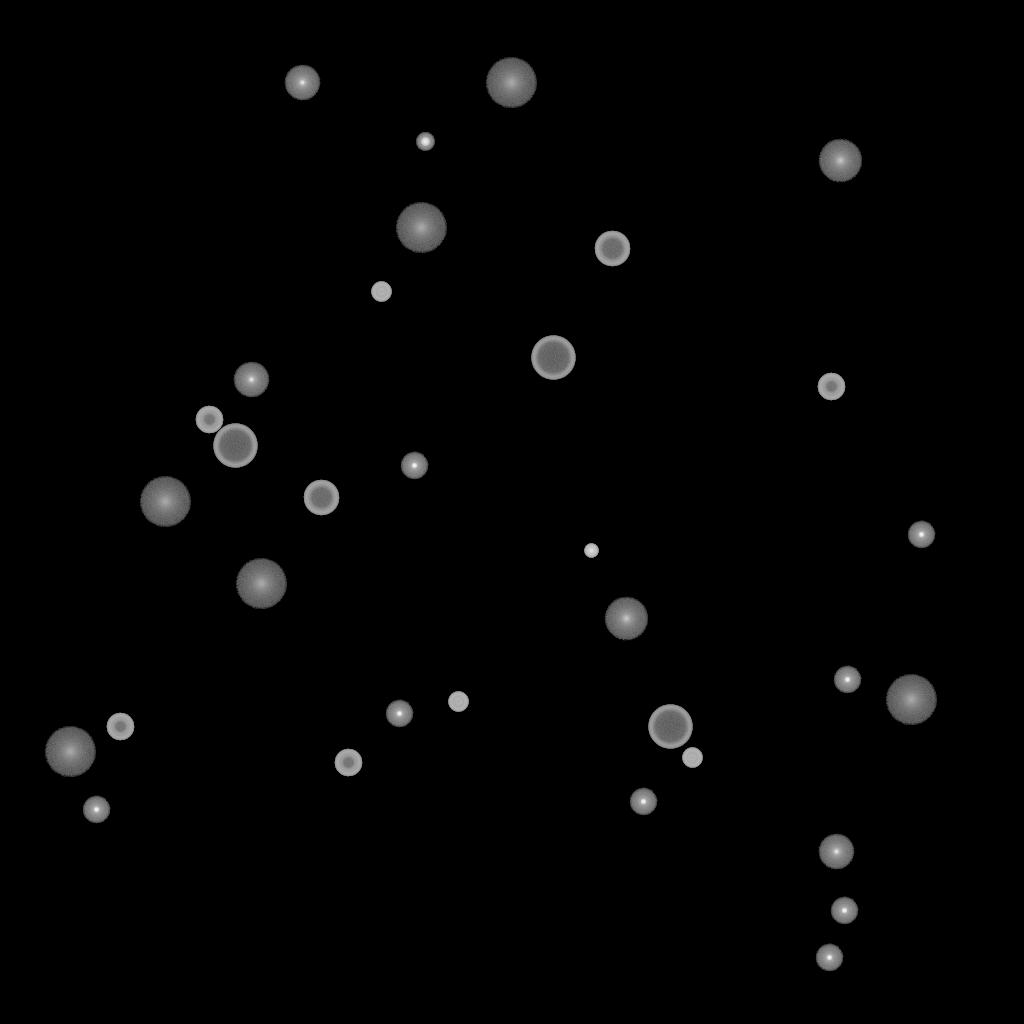depth:-10: (400, 452, 428, 480), (833, 666, 861, 694), (907, 521, 935, 549), (82, 796, 110, 824), (629, 788, 657, 816), (830, 897, 858, 925), (815, 944, 843, 972), (385, 700, 413, 728)
depth:-20: (416, 133, 434, 151)
depth:-30: (584, 544, 598, 558)
depth:-40: (371, 282, 391, 302), (682, 748, 702, 768), (448, 692, 468, 712)
depth:-50: (334, 749, 362, 777), (106, 713, 134, 741), (195, 406, 223, 434), (817, 373, 845, 401)
depth:-60: (594, 231, 630, 267), (303, 480, 339, 516)
depth:-70: (531, 336, 575, 380), (213, 424, 257, 468), (648, 705, 692, 749)
depth:0: (818, 834, 854, 870), (233, 362, 269, 398), (284, 65, 320, 101)
depth:10: (818, 139, 862, 183), (604, 597, 648, 641)
depth:20: (235, 559, 287, 609), (395, 203, 447, 253), (485, 58, 537, 108), (139, 477, 191, 527), (885, 675, 937, 725), (44, 727, 96, 777)
